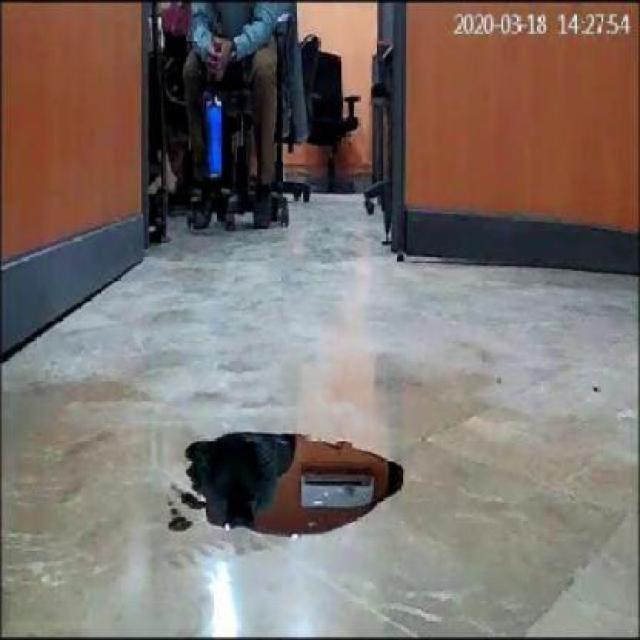spillage: (152, 428, 420, 547)
